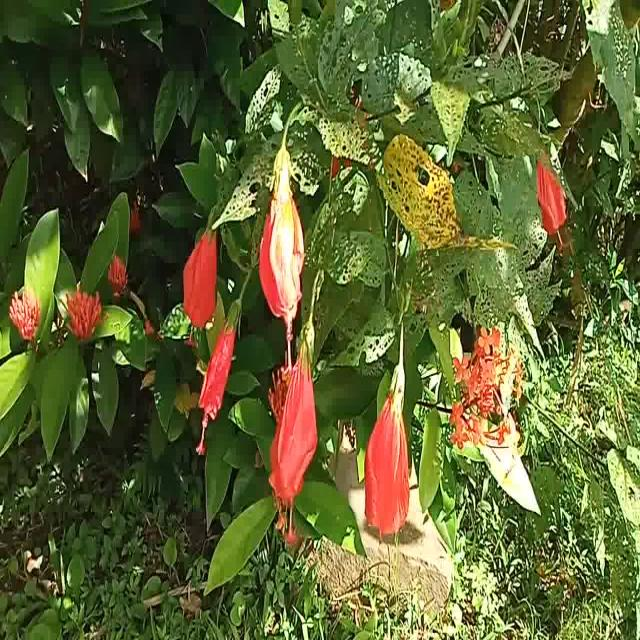Flower: (267, 324, 319, 545), (363, 364, 415, 542), (196, 291, 244, 455), (262, 146, 300, 343), (181, 215, 221, 334), (531, 150, 572, 249)
